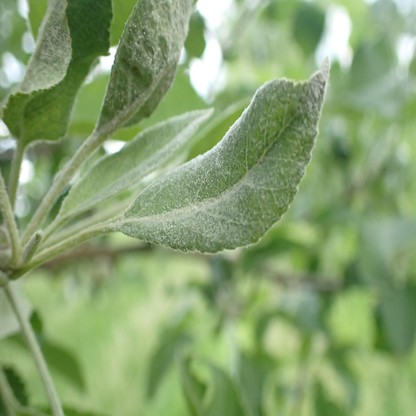powder: (116, 55, 330, 256), (66, 108, 214, 217), (2, 0, 113, 142), (97, 0, 192, 128)
